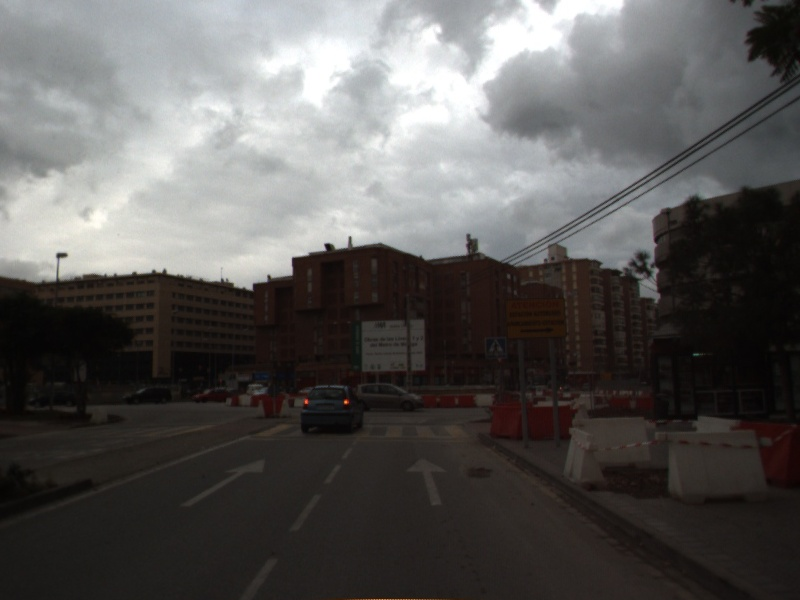STRAIGHT: (178, 456, 268, 508), (404, 455, 449, 507)
